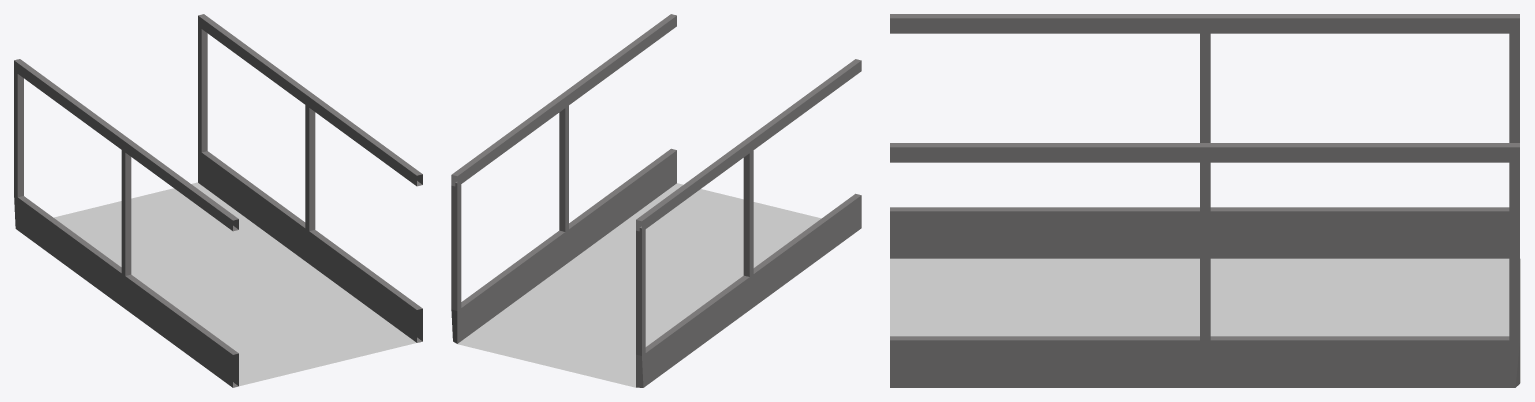
The model's file is SM_Runway.fbx.
The picture shows the model from 3 angles, left to right: view 1: azimuth 30°, elevation 25°; view 2: azimuth 150°, elevation 25°; view 3: azimuth 270°, elevation 25°; orthographic projection. The views are drawn at different scales.
Visible parts, largest first — view 1: Cube.008; view 2: Cube.008; view 3: Cube.008.
Boxes of the visible parts, left/top/right/bottom form: Cube.008: left=14, top=14, right=422, bottom=387; Cube.008: left=451, top=14, right=861, bottom=387; Cube.008: left=890, top=14, right=1520, bottom=387.
Bounding box in the file's own units: 200 × 100 × 84.2.
